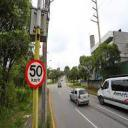speed_limit_50: (25, 59, 45, 87)
